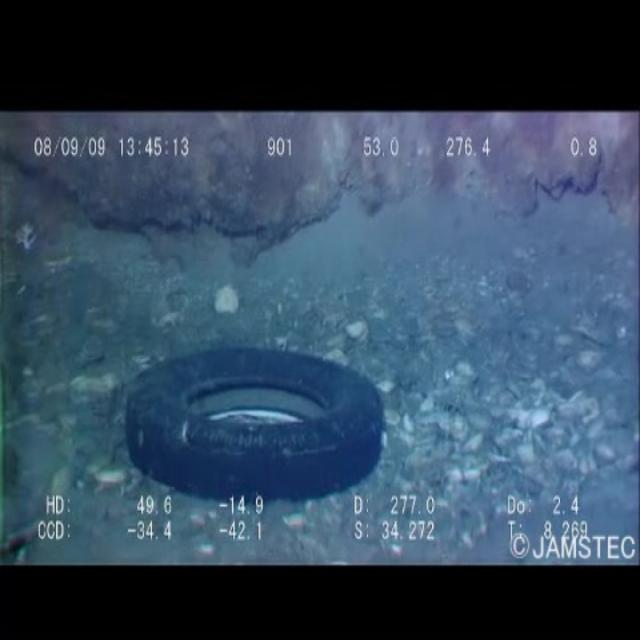Rubber: (108, 356, 394, 501)
